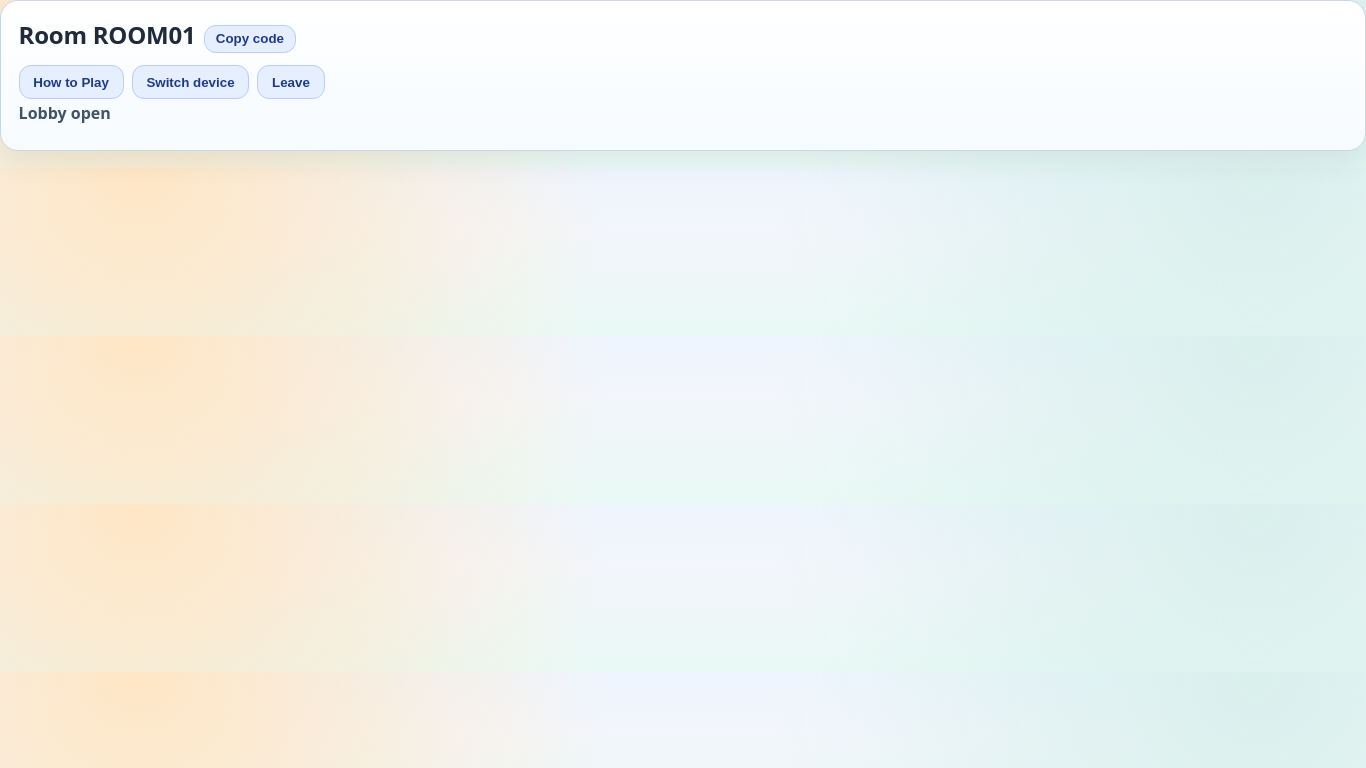
Test: GameClient › copies room code to clipboard from room header button
Click the button with aria-label "Copy room code" at (250, 39), box left=204, top=25, right=296, bottom=53
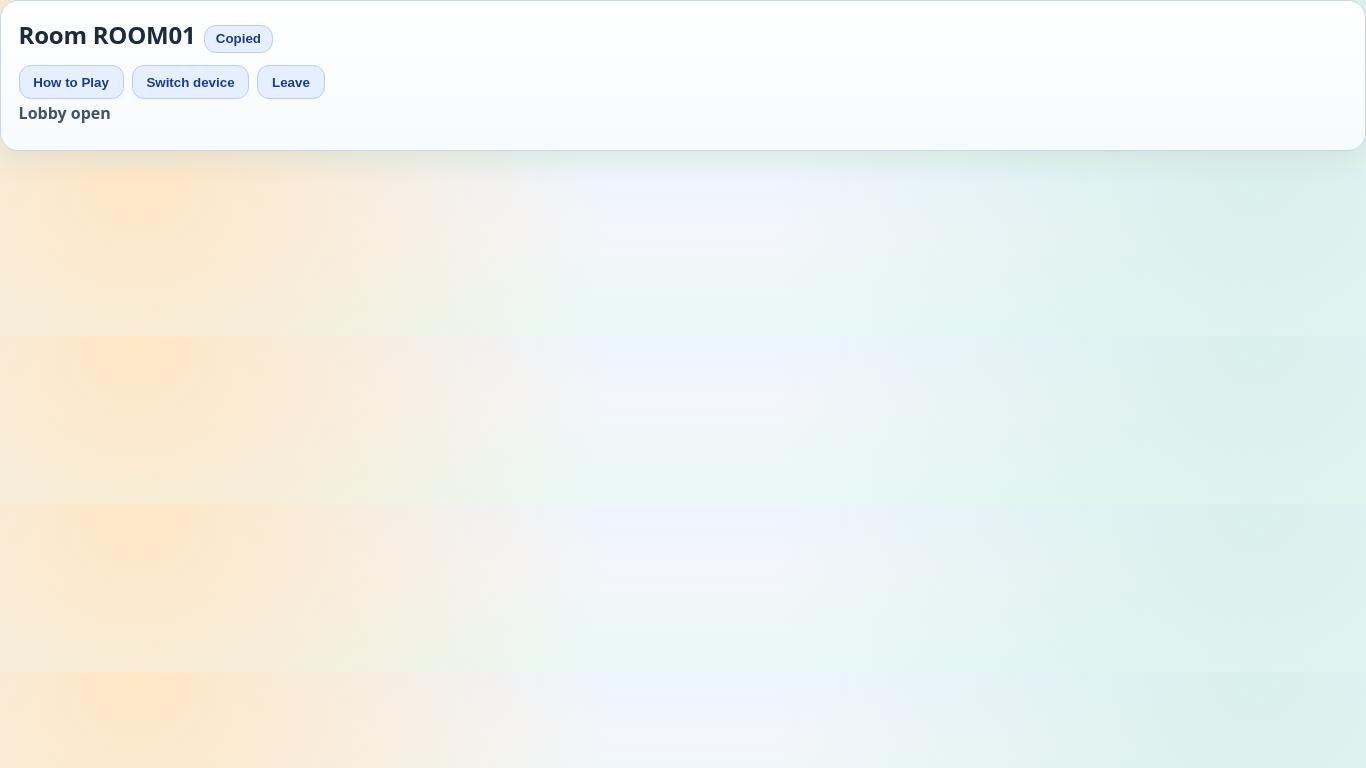
Expected: the button "Copied" is shown, left=204, top=25, right=273, bottom=53
